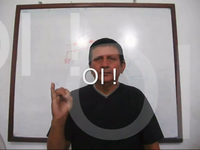oi: (49, 82, 76, 120)
